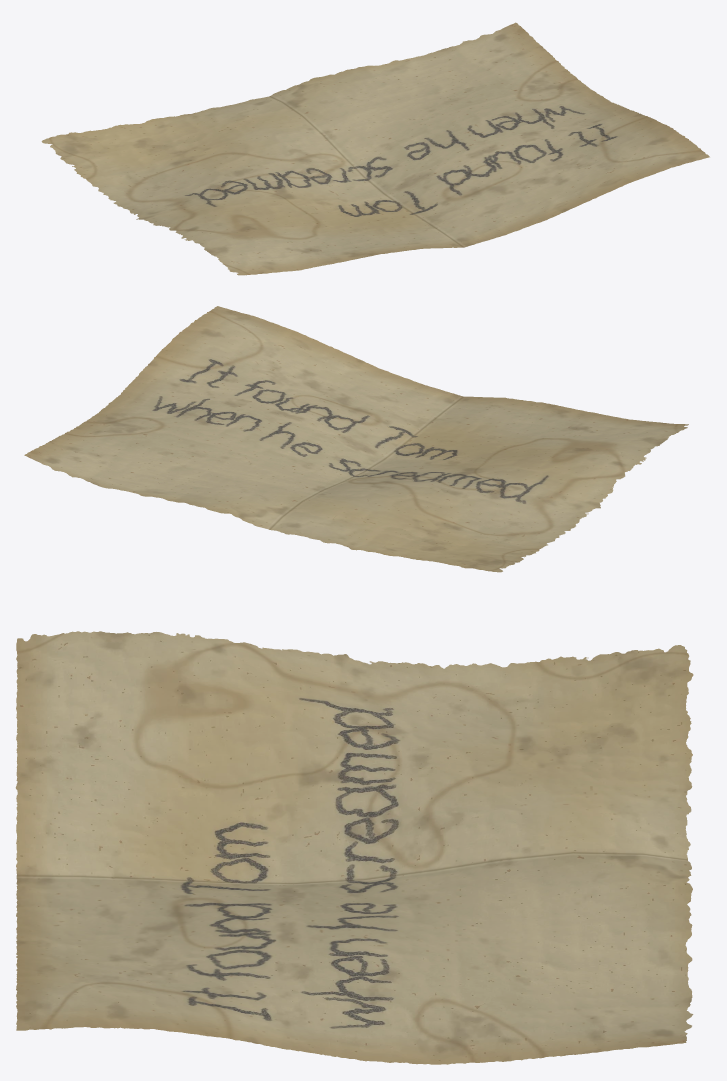
The model's file is note_tom.glb.
The picture shows the model from 3 angles, top to bottom: view 1: azimuth 30°, elevation 25°; view 2: azimuth 150°, elevation 25°; view 3: azimuth 270°, elevation 25°; orthographic projection. The views are drawn at different scales.
Visible parts, largest first — view 1: note_tom; view 2: note_tom; view 3: note_tom.
Boxes of the visible parts, <box> form: note_tom: <box>41,22,709,275</box>; note_tom: <box>24,306,688,572</box>; note_tom: <box>15,631,693,1064</box>.
Bounding box in the file's own units: 0.17 × 0.0124 × 0.12.
1 material, 1 textured.
